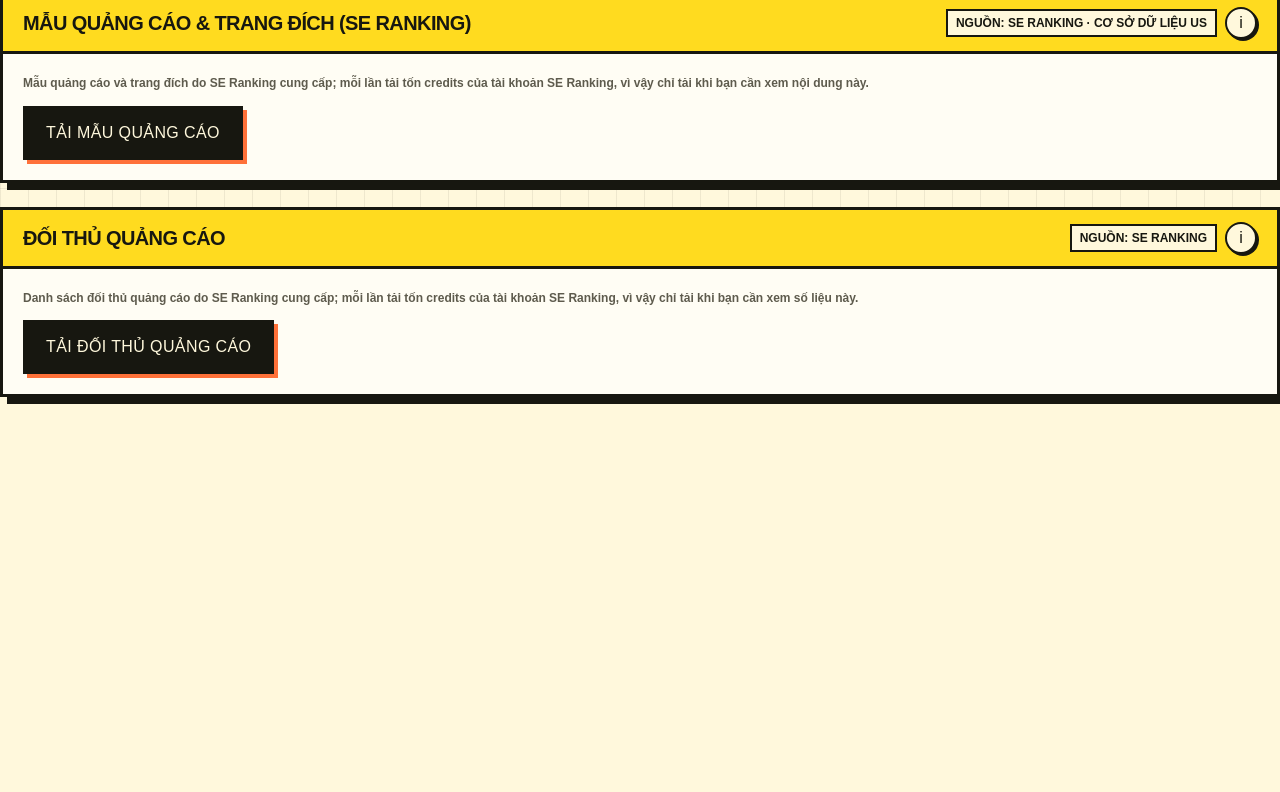
Test case: SerankingPanel › lỗi HTTP khi tải mẫu quảng cáo hiển thị alert, nút Thử lại và thử lại thành công
Click the button "Tải mẫu quảng cáo": click(133, 132) [23, 106, 243, 160]
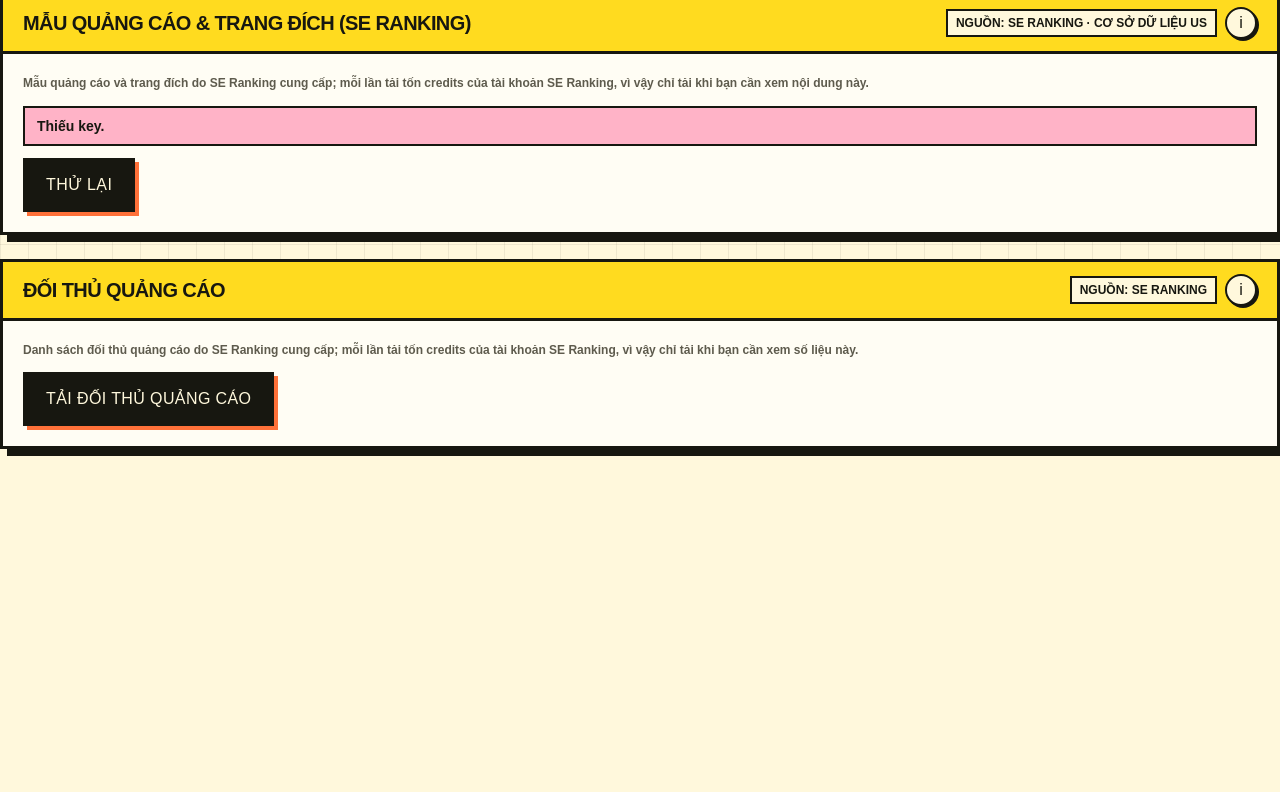
Expected: the button "Tải đối thủ quảng cáo" is shown, [23, 372, 274, 426]
Expected: the message reads "Thiếu key.", [37, 118, 104, 134]
Click the button "Thử lại": click(79, 184) [23, 158, 135, 212]
(page scrolled)
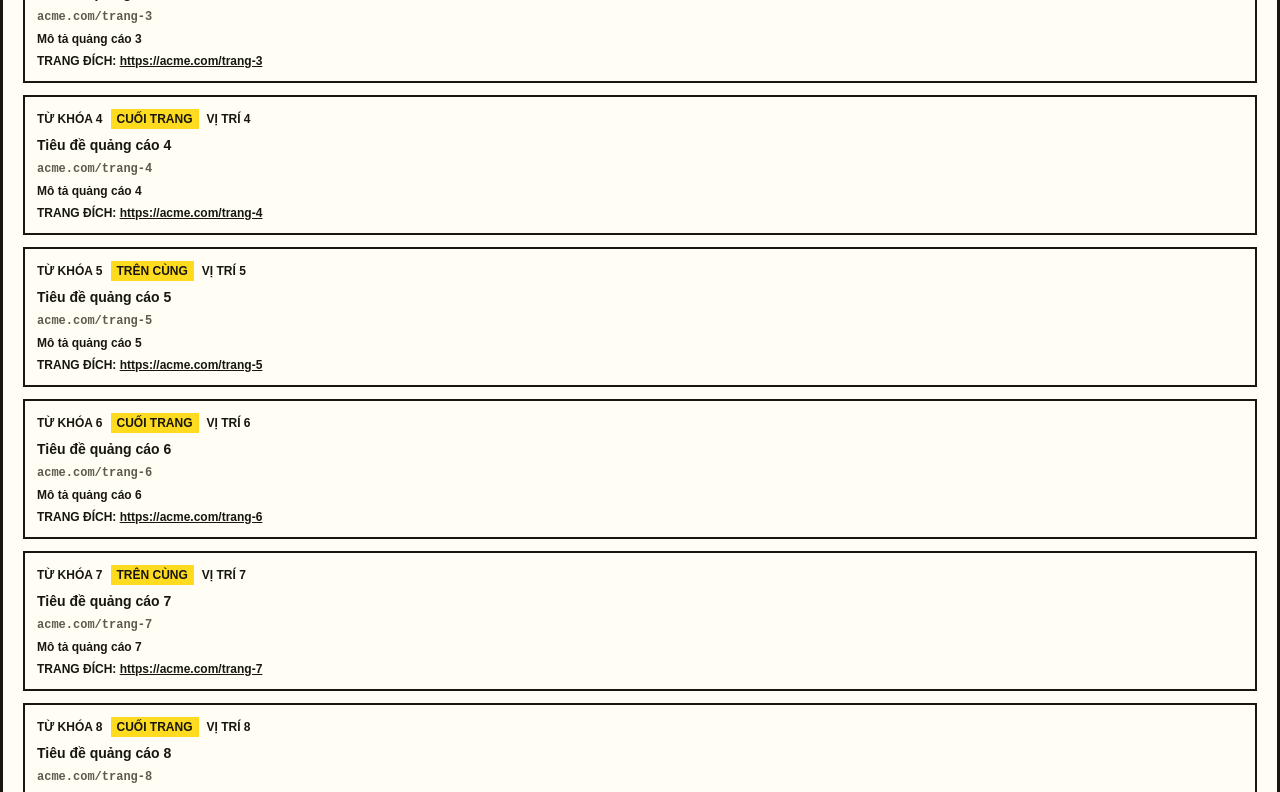
Expected: the message "Thiếu key." is gone
